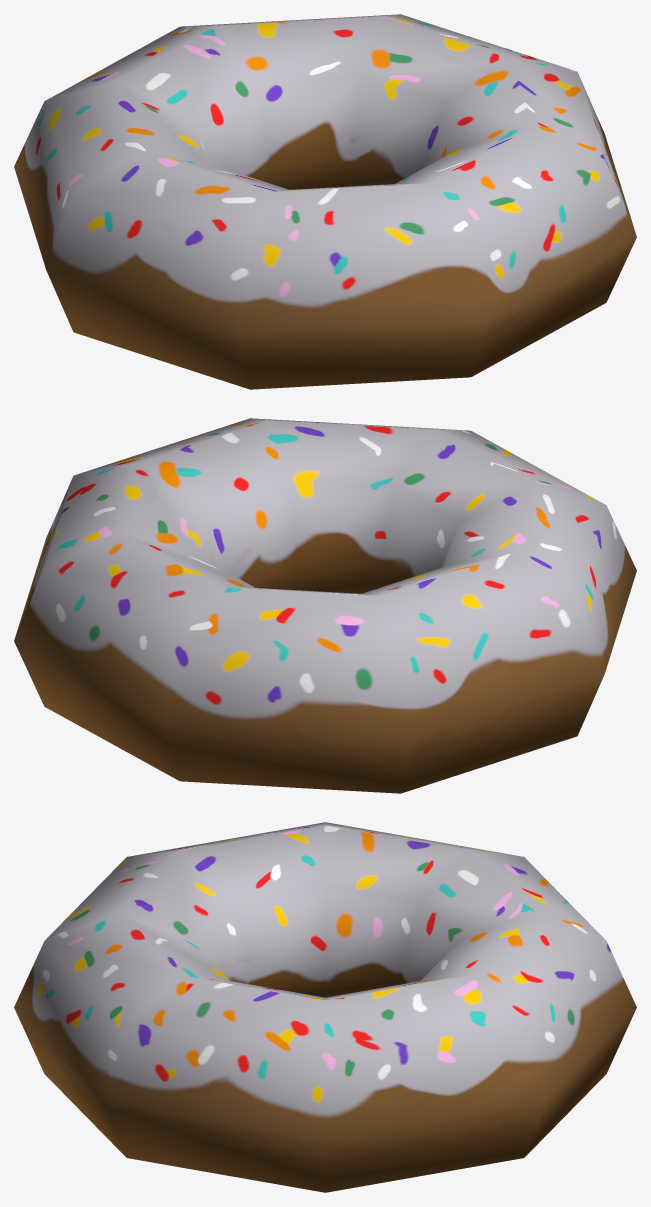
File: Vanilla_Donut.fbx
3 renders of one model, top to bottom at view 1: azimuth 30°, elevation 25°; view 2: azimuth 150°, elevation 25°; view 3: azimuth 270°, elevation 25°, orthographic. The views are drawn at different scales.
Parts seen in each view (by area): view 1: Donut_Base6; view 2: Donut_Base6; view 3: Donut_Base6.
Boxes of the visible parts, box(x1,y1,x2,y2) form: Donut_Base6: box(14, 14, 636, 389); Donut_Base6: box(14, 418, 636, 793); Donut_Base6: box(14, 822, 636, 1192).
Size of the model in its own units: 3 by 1 by 3.
1 material, 1 textured.
